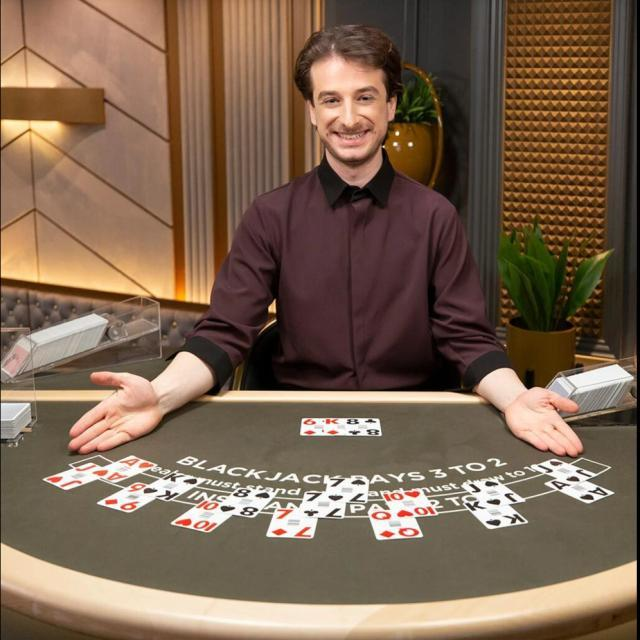Card-10: (170, 499, 231, 532), (382, 489, 438, 517)
Card-6: (300, 418, 325, 435)
Card-7: (266, 507, 317, 538), (299, 491, 346, 519), (324, 476, 369, 503)
Card-8: (216, 487, 276, 518), (347, 418, 381, 435)
Card-9: (97, 482, 154, 513)
Card-A: (89, 455, 157, 483), (544, 478, 615, 503)
Card-J: (462, 479, 525, 508), (533, 458, 597, 485), (42, 462, 102, 490)
Card-K: (136, 471, 205, 501), (463, 501, 528, 529), (325, 418, 346, 435)
Card-Q: (368, 510, 422, 540)
